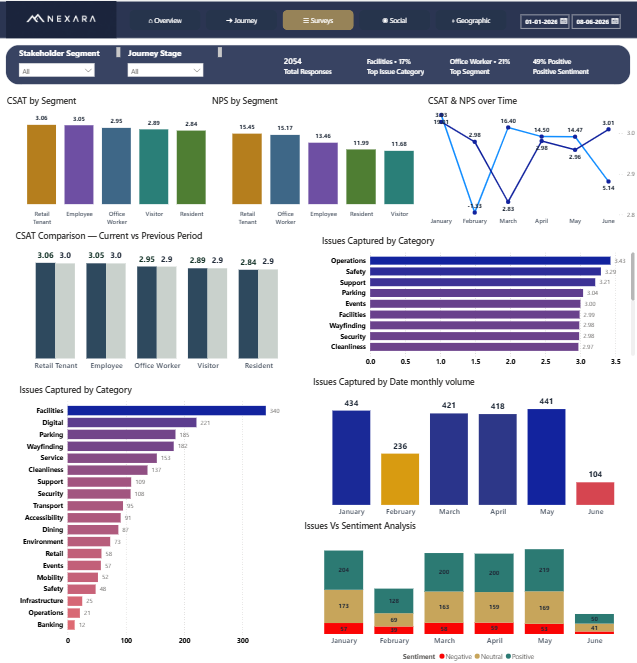

The dashboard page shown, as its layout file describes it:
{"tool":"powerbi","page":{"name":"☰ Surveys","canvas":[1280,1330],"ordinal":2},"visuals":[{"type":"shape","box":[0,0,1280,74.8],"z":0},{"type":"shape","box":[14,88,1250,80],"z":1000},{"type":"image","box":[3.6,6,234,63.9],"z":2000},{"type":"pageNavigator","box":[263.3,18.3,758.3,41.7],"z":3000},{"type":"slicer","fields":{"Values":["Fact_Survey.Date"]},"box":[1038.3,23.3,241.7,38.3],"z":4000},{"type":"textbox","box":[38.2,88.2,211.8,30.9],"z":5000},{"type":"textbox","box":[255.5,88.2,198.2,30.9],"z":6000},{"type":"cardVisual","fields":{"Data":["Fact_Survey.Total Responses","Fact_Survey.Top Issue Category","Fact_Survey.Top Segment","Fact_Survey.Positive Sentiment Banner"]},"box":[543.3,88.3,700,83.3],"z":7000},{"type":"slicer","title":"Account Name","fields":{"Values":["Dim_Customer.Customer Segment"]},"box":[38.2,119.1,160,30.9],"z":8000},{"type":"slicer","title":"Account Name","fields":{"Values":["Dim_Journey.Journey_Stage"]},"box":[255.5,119.1,160,30.9],"z":9000},{"type":"clusteredColumnChart","title":"CSAT by Segment","fields":{"Category":["Fact_Survey.Customer_Segment"],"Y":["Avg(Fact_Survey.CSAT)"]},"box":[13.3,188.3,440,270],"z":10000},{"type":"clusteredColumnChart","title":"NPS by Segment","fields":{"Category":["Fact_Survey.Customer_Segment"],"Y":["Avg(Fact_Survey.NPS)"]},"box":[421.7,188.3,446.7,270],"z":11000},{"type":"lineChart","title":"CSAT & NPS over Time","fields":{"Category":["Dim_Date.Date.Variation.Date Hierarchy.Year","Dim_Date.Date.Variation.Date Hierarchy.Quarter","Dim_Date.Date.Variation.Date Hierarchy.Month","Dim_Date.Date.Variation.Date Hierarchy.Day"],"Y":["Avg(Fact_Survey.NPS)"],"Y2":["Avg(Fact_Survey.CSAT)"]},"box":[855,188.3,425,270],"z":12000},{"type":"clusteredColumnChart","title":"CSAT Comparison — Current vs Previous Period","fields":{"Category":["Fact_Survey.Customer_Segment"],"Y":["Avg(Fact_Survey.CSAT)","Fact_Survey.Previous CSAT"]},"box":[30,458.3,578.3,291.7],"z":13000},{"type":"clusteredBarChart","title":"Issues Captured by Category","fields":{"Category":["Fact_Survey.Issue Category"],"Y":["Fact_Survey.Total Responses"]},"box":[38.3,765,543.3,533.3],"z":14000},{"type":"clusteredBarChart","title":"Issues Captured by Category","fields":{"Category":["Fact_Survey.Issue Category"],"Y":["Avg(Fact_Survey.CSAT)"]},"box":[643.3,468.3,636.7,273.3],"z":15000},{"type":"clusteredColumnChart","title":"Issues Captured by Date monthly volume","fields":{"Category":["Dim_Date.Date.Variation.Date Hierarchy.Month"],"Y":["CountNonNull(Fact_Survey.Issue Category)"]},"box":[626,750,654,292],"z":16000},{"type":"columnChart","title":"Issues Vs Sentiment Analysis","fields":{"Category":["Dim_Date.Date.Variation.Date Hierarchy.Month"],"Series":["Fact_Survey.Sentiment"],"Y":["CountNonNull(Fact_Survey.Issue Category)"]},"box":[608,1038,672,292],"z":17000},{"type":"image","box":[2,0,248,74],"z":17001}]}

Visuals, with their boxes on the page's 1280x1330 design canvas (x1, y1, x2, y2). These are canvas units, not pixel positions in the 637x663 screenshot, which may show the page scaled, cropped or inside an application window:
shape: 0 0 1280 75
shape: 14 88 1264 168
image: 4 6 238 70
pageNavigator: 263 18 1022 60
slicer - Fact_Survey.Date: 1038 23 1280 62
textbox: 38 88 250 119
textbox: 256 88 454 119
cardVisual - Fact_Survey.Total Responses x Fact_Survey.Top Issue Category: 543 88 1243 172
"Account Name" slicer: 38 119 198 150
"Account Name" slicer: 256 119 416 150
"CSAT by Segment" clusteredColumnChart: 13 188 453 458
"NPS by Segment" clusteredColumnChart: 422 188 868 458
"CSAT & NPS over Time" lineChart: 855 188 1280 458
"CSAT Comparison — Current vs Previous Period" clusteredColumnChart: 30 458 608 750
"Issues Captured by Category" clusteredBarChart: 38 765 582 1298
"Issues Captured by Category" clusteredBarChart: 643 468 1280 742
"Issues Captured by Date monthly volume" clusteredColumnChart: 626 750 1280 1042
"Issues Vs Sentiment Analysis" columnChart: 608 1038 1280 1330
image: 2 0 250 74
